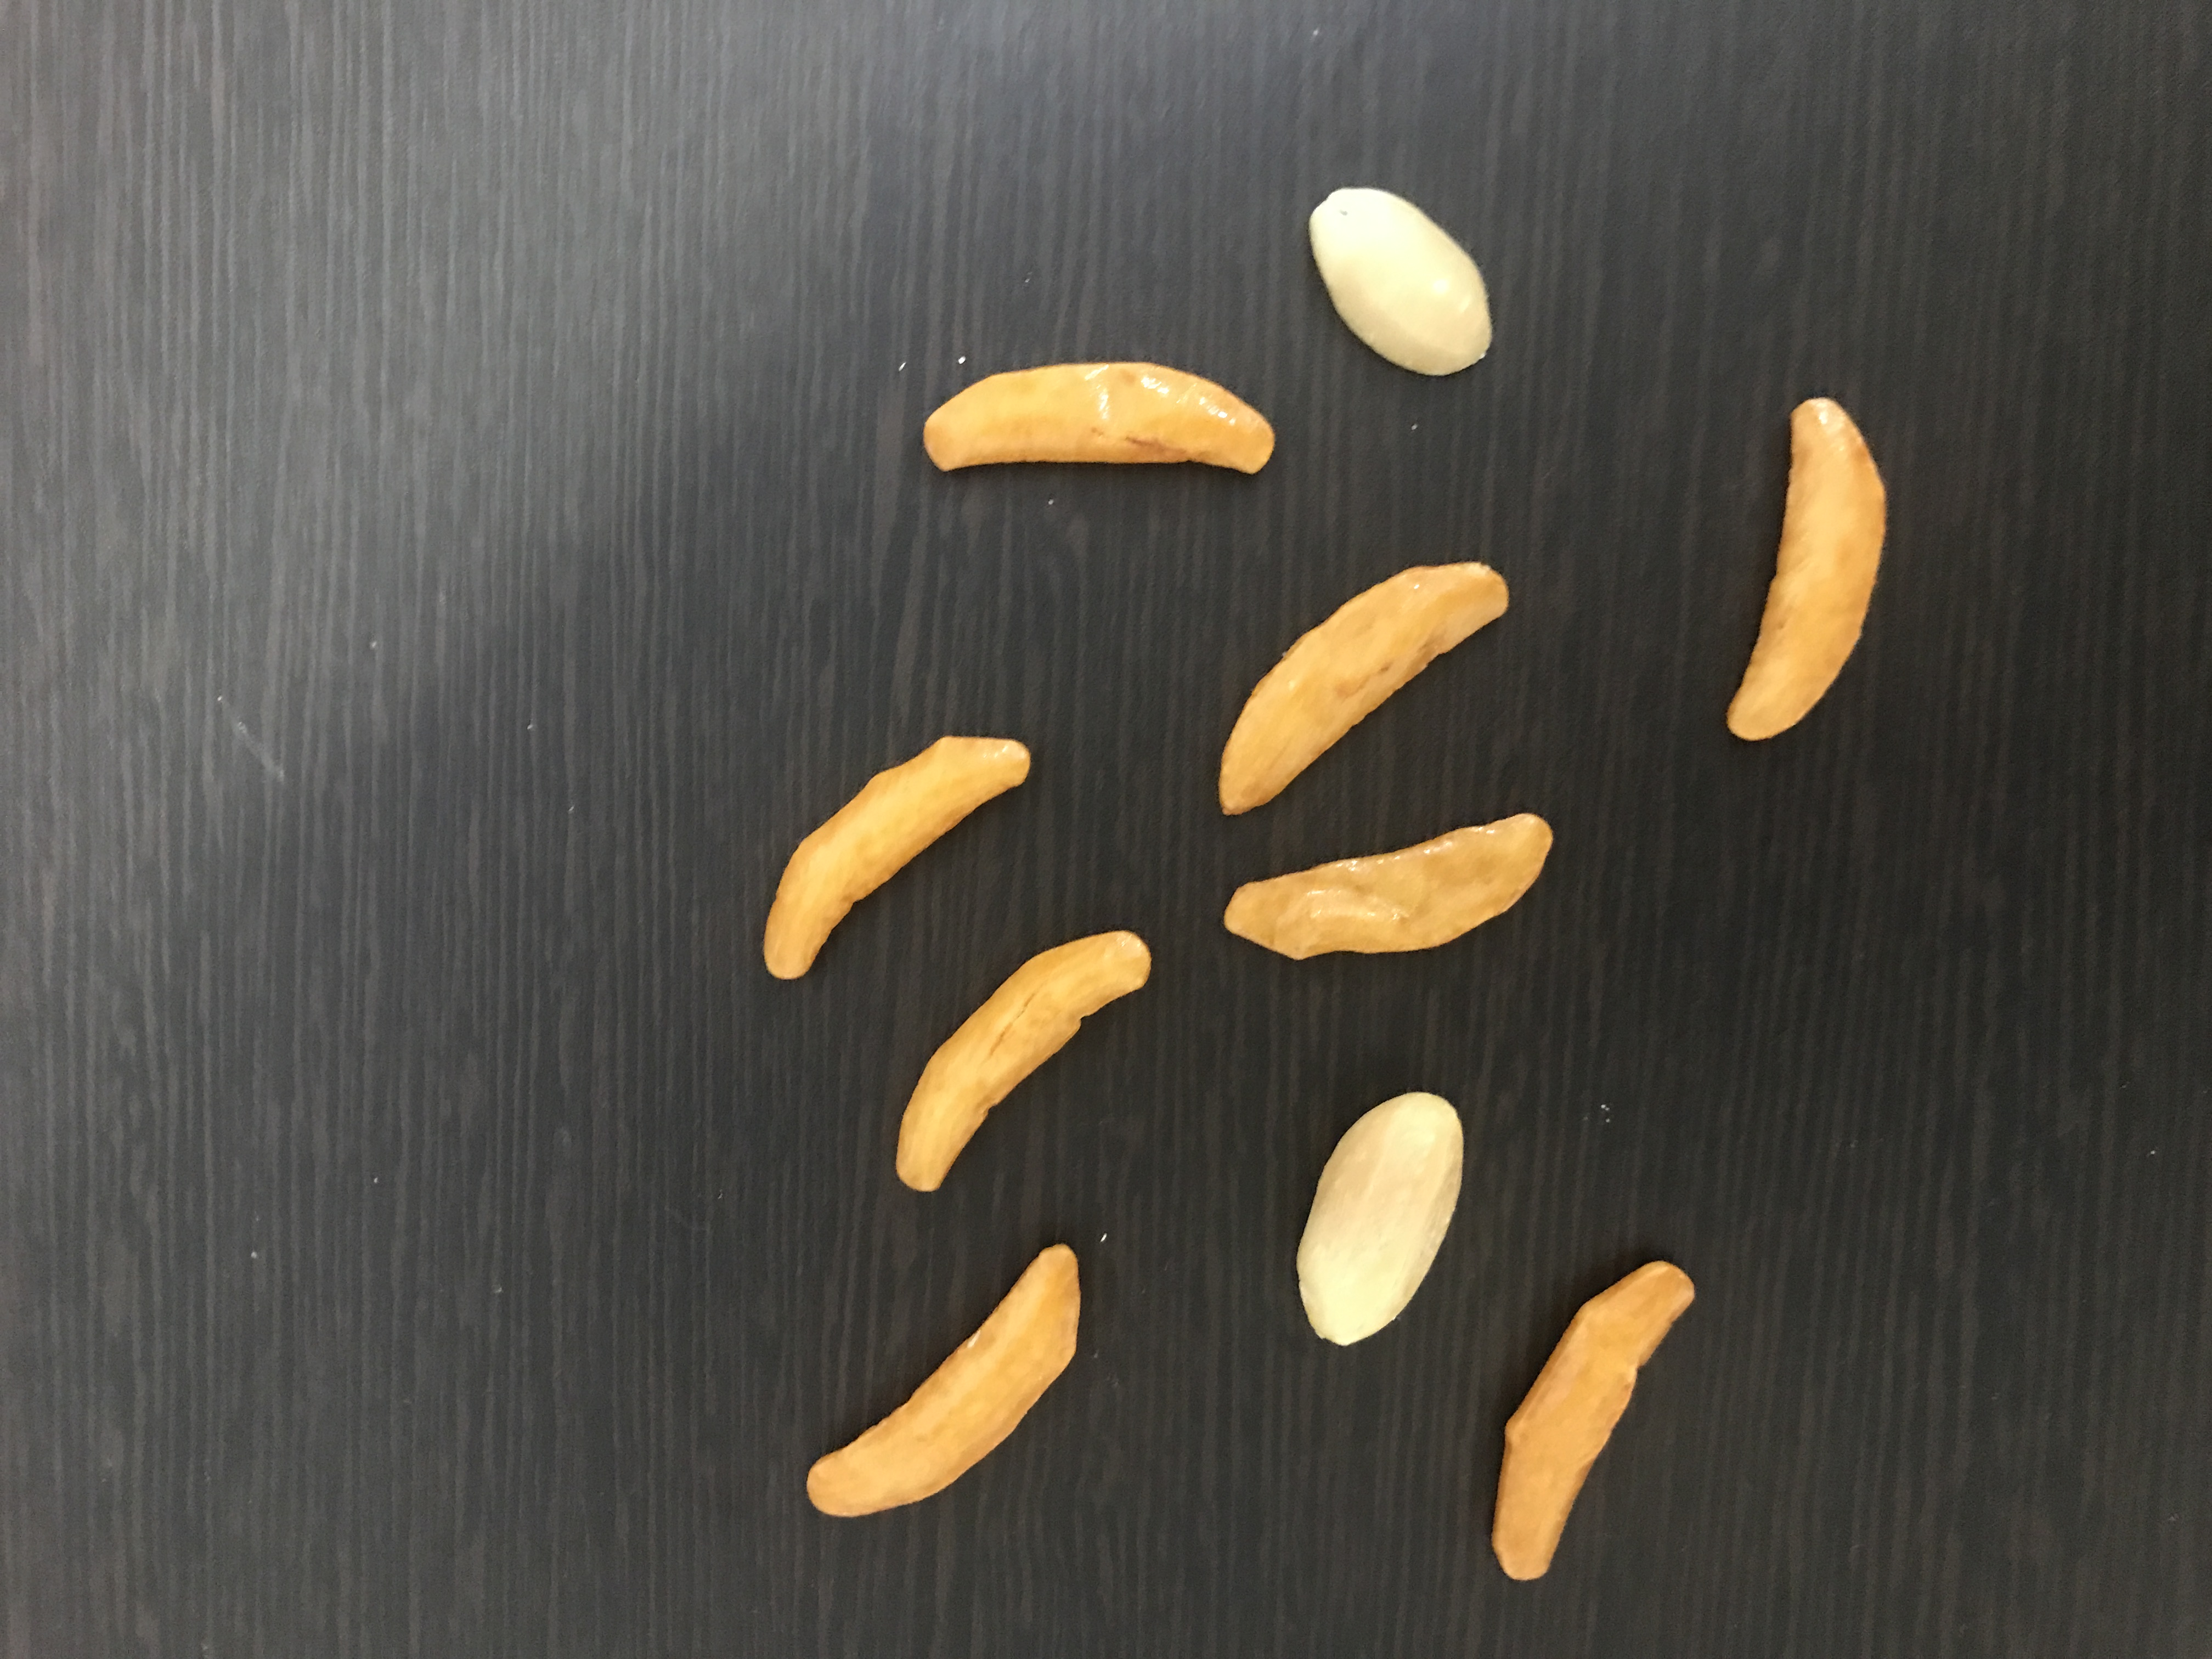peanut: (1278, 1082, 1474, 1349), (1305, 173, 1505, 387)
